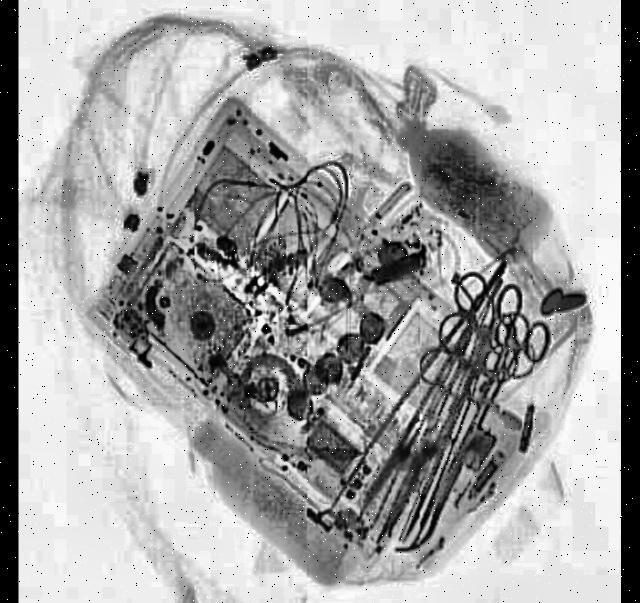Scissors: (432, 282, 563, 466)
